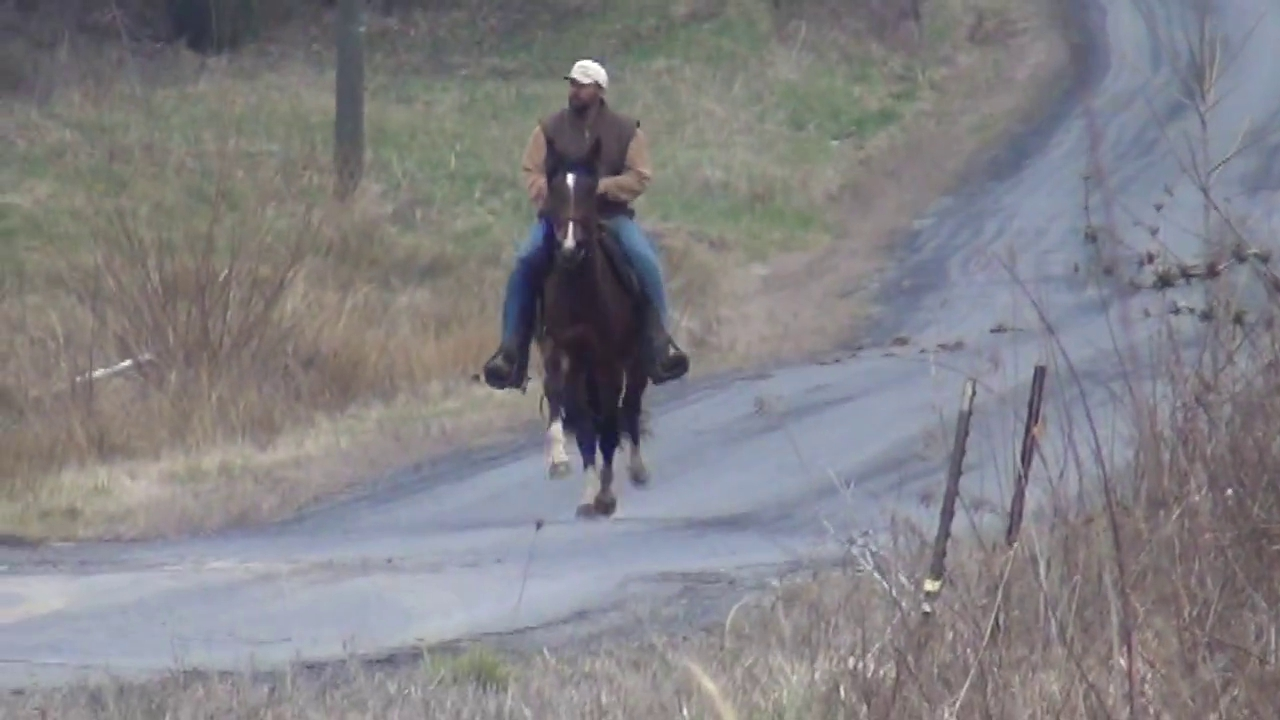person: (484, 59, 691, 391)
